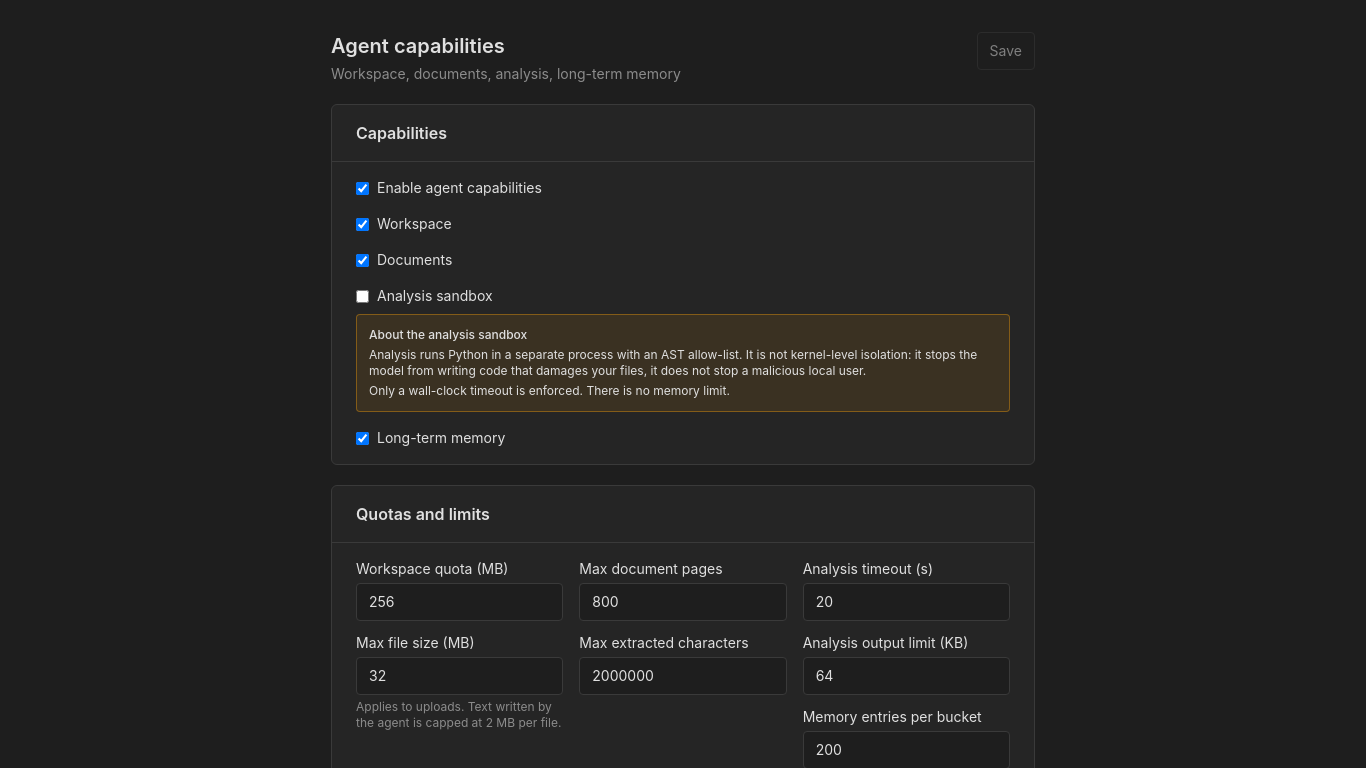
Test: Agent 能力设置面板 › 配额越界时标记 aria-invalid 并禁用保存
Replace the text in the number field labelled "Workspace quota (MB)" with "4" at [460, 602], box [356,583,563,621]
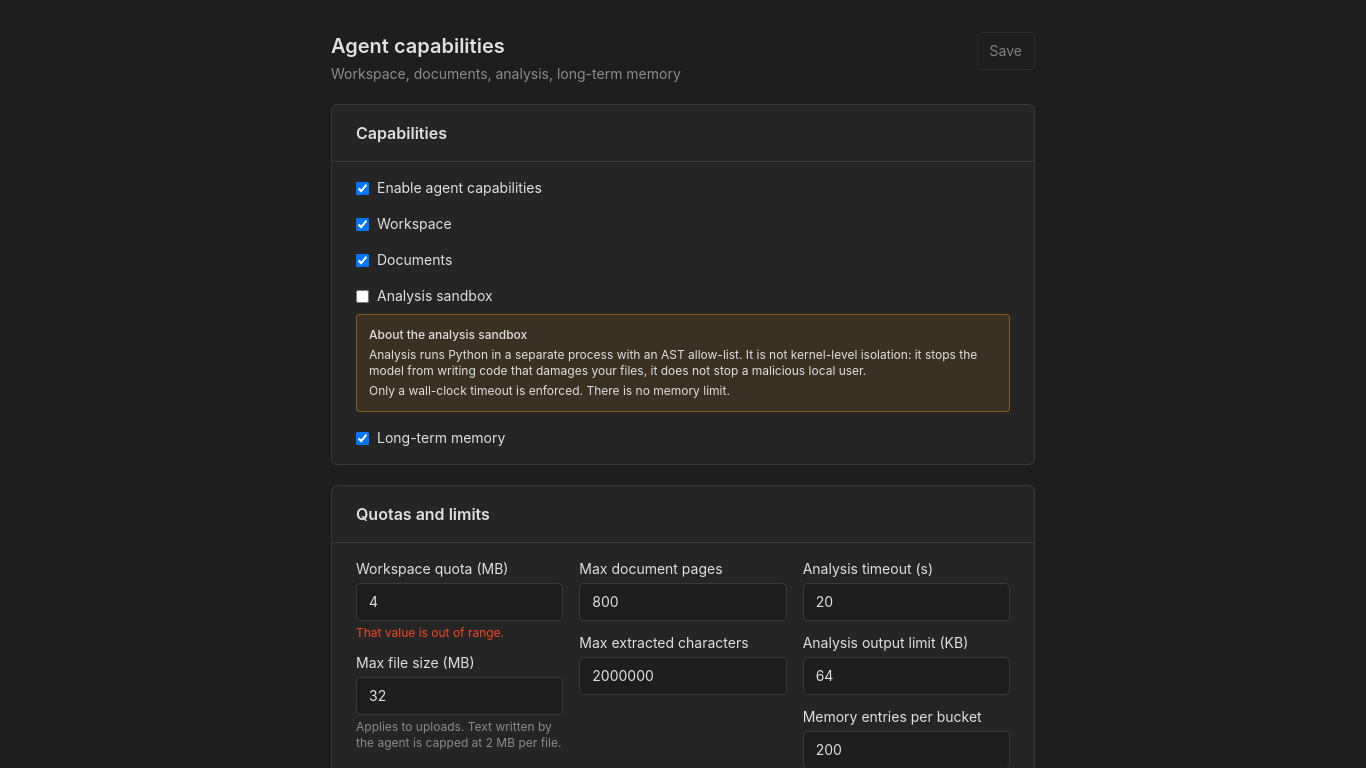
Expected: the button "Save" is disabled, [977,32,1035,70]
Now the text "That value is out of range." is shown, box [356,625,504,640]
